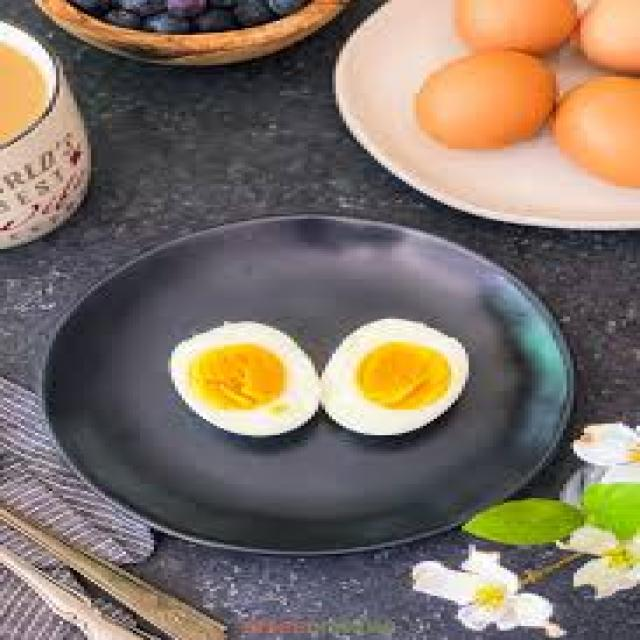boiled egg: (149, 308, 488, 454), (417, 52, 556, 151), (553, 77, 639, 188), (455, 0, 577, 55)
